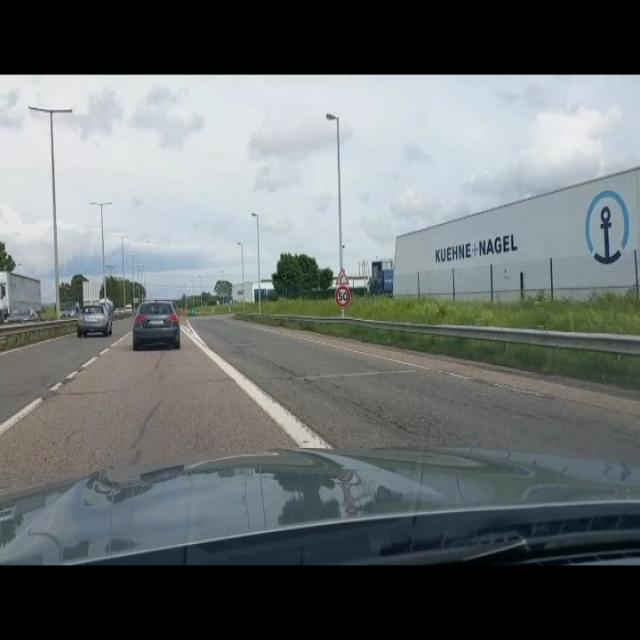speed_50: (334, 286, 352, 309)
turn_right: (334, 266, 351, 286)
